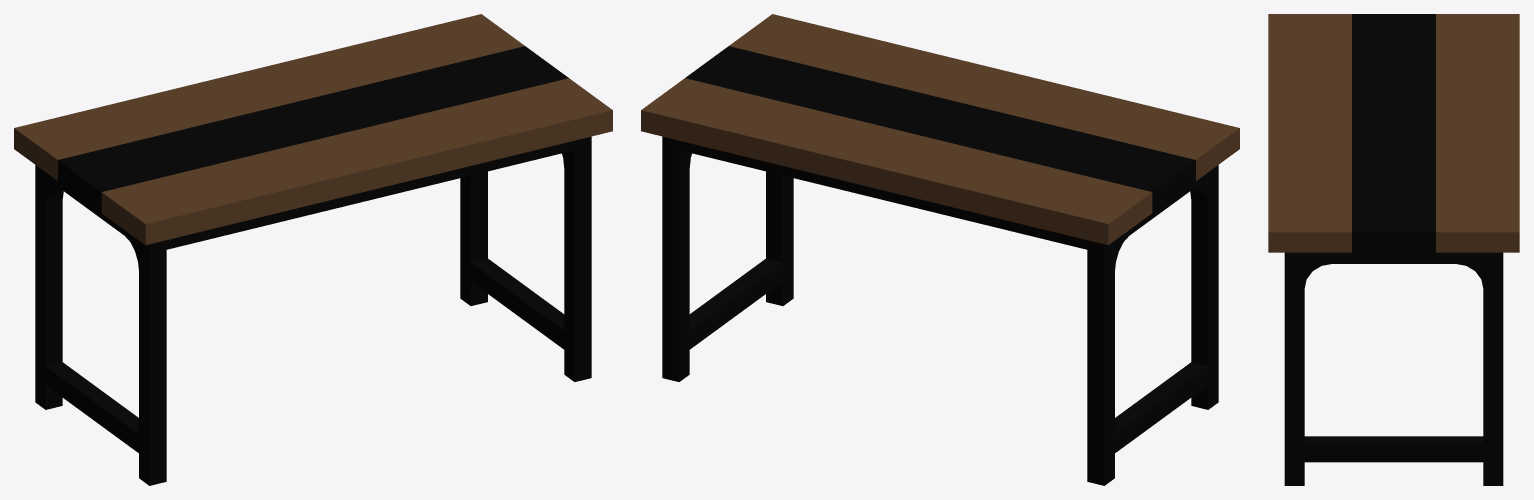
Rendered from ThinDesk.fbx.
3 views of the same model, side by side, from view 1: azimuth 30°, elevation 25°; view 2: azimuth 150°, elevation 25°; view 3: azimuth 270°, elevation 25° (orthographic). The views are drawn at different scales.
Visible parts, largest first — view 1: Metal, Wood; view 2: Metal, Wood; view 3: Wood, Metal.
Boxes of the visible parts, x1,y1,x2,y2 form: Metal: (35,46,591,485); Wood: (14,14,612,245); Metal: (662,46,1218,485); Wood: (641,14,1239,245); Wood: (1268,14,1519,252); Metal: (1284,14,1503,485).
Bounding box in the file's own units: 200 × 111 × 97.38.
